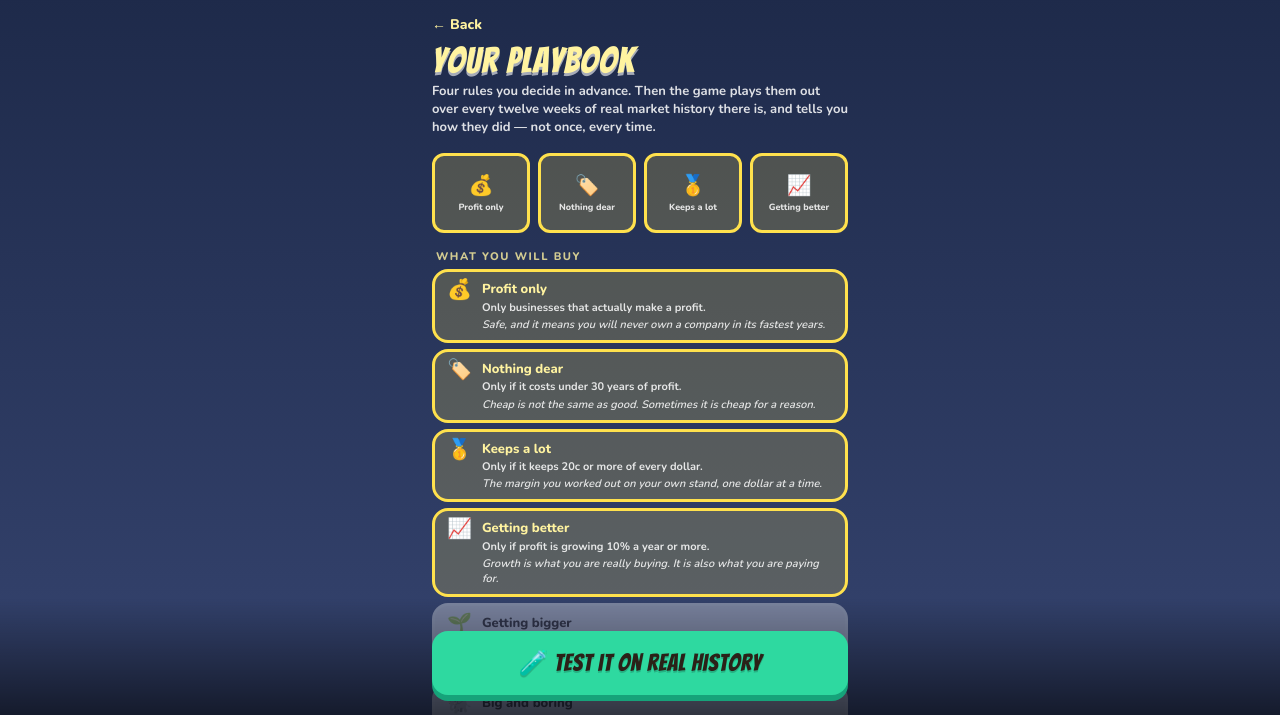
Scenario: comparing playbooks with a friend › refuses a code that is not a playbook, and says what to check
Click the button "🧪 Test it on real history".
click(640, 663)  # box [432,631,848,695]
(page scrolled)
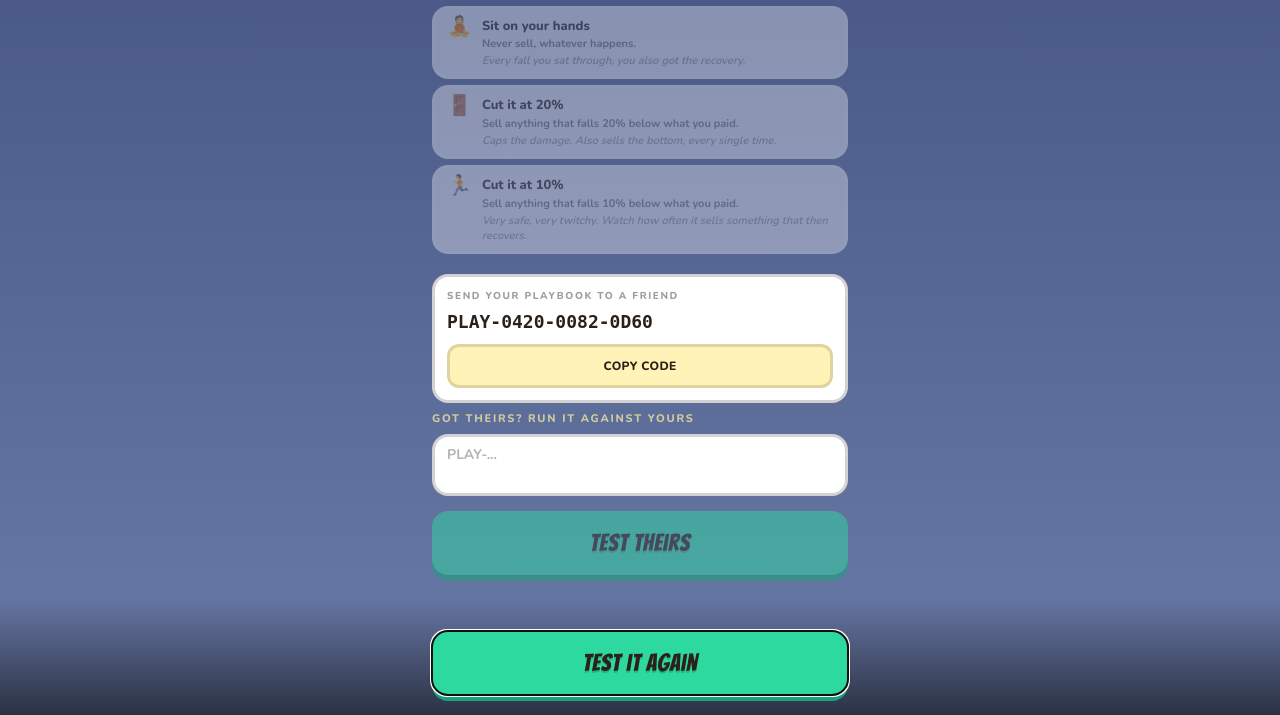
Type "PLAY-NOT-A-REAL-CODE" into the text box labelled "PLAY-...".
click(640, 464); type("PLAY-NOT-A-REAL-CODE")  # box [432,434,848,496]
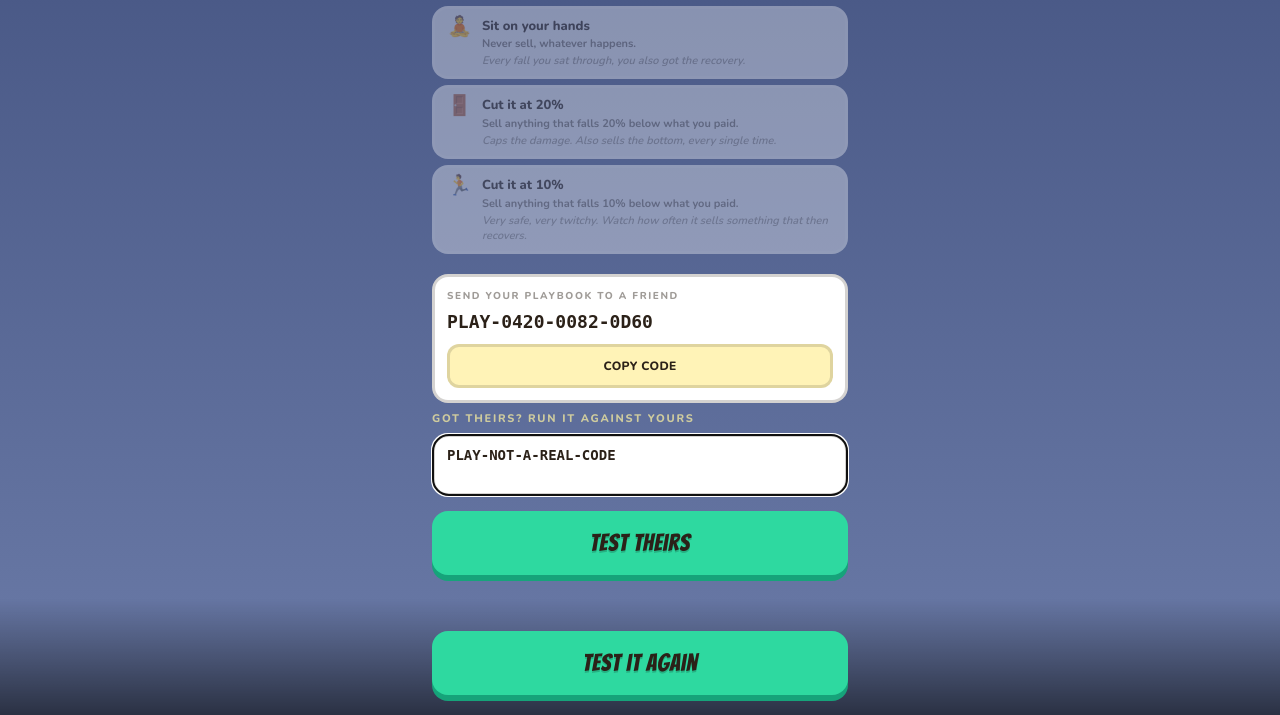
Click the button "Test theirs".
click(640, 542)  # box [432,510,848,574]
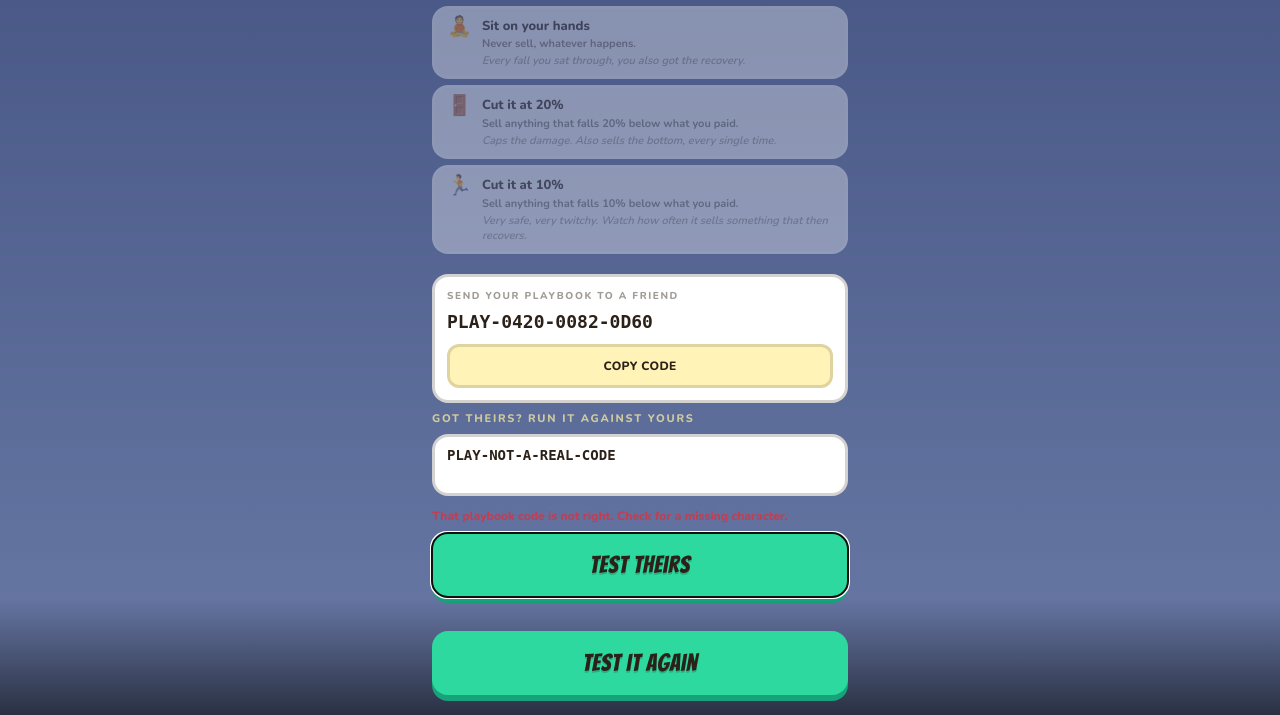
Now the text "not right" is shown, box [432,508,788,524]
